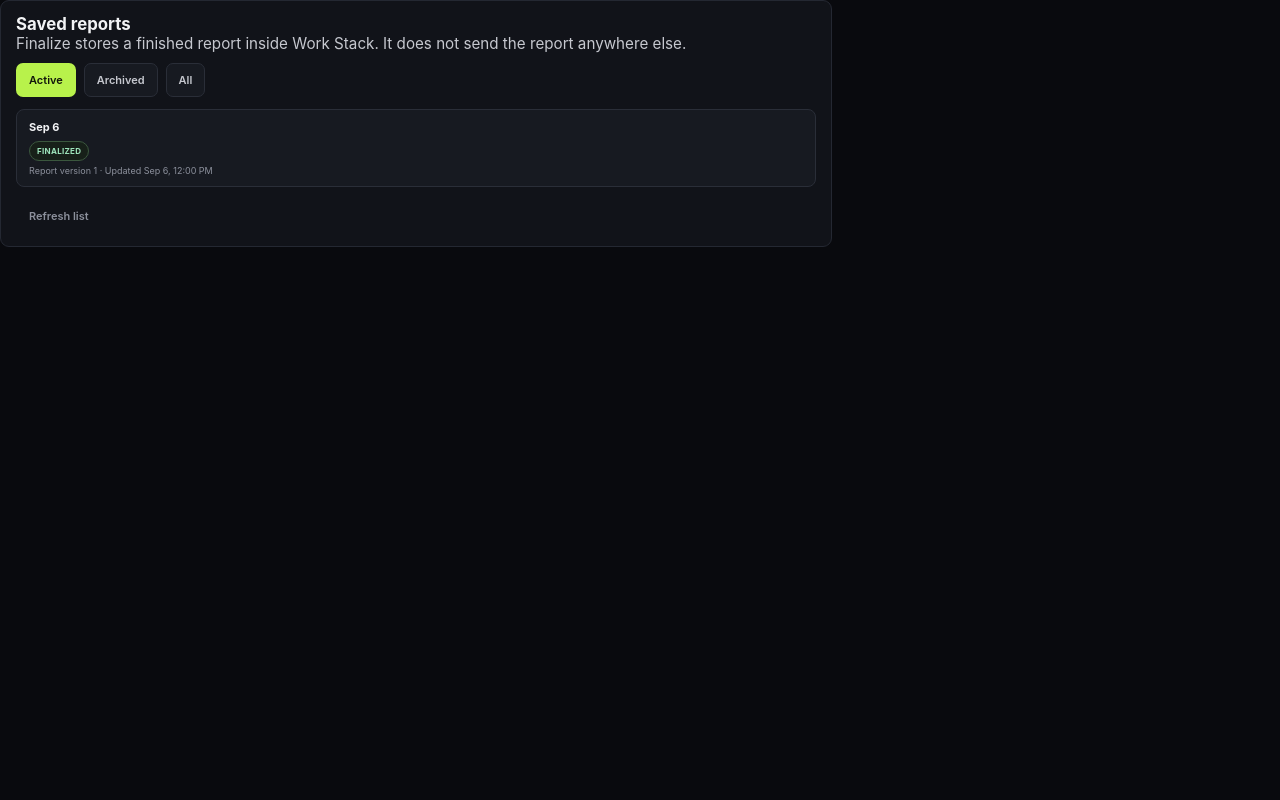
Test: editing a finalized report saves a new authored version and reopens it as a draft
Step 1. Click the text "Report version 1 · Updated Sep 6, 12:00 PM" → (121, 170), box [29,165,213,176]
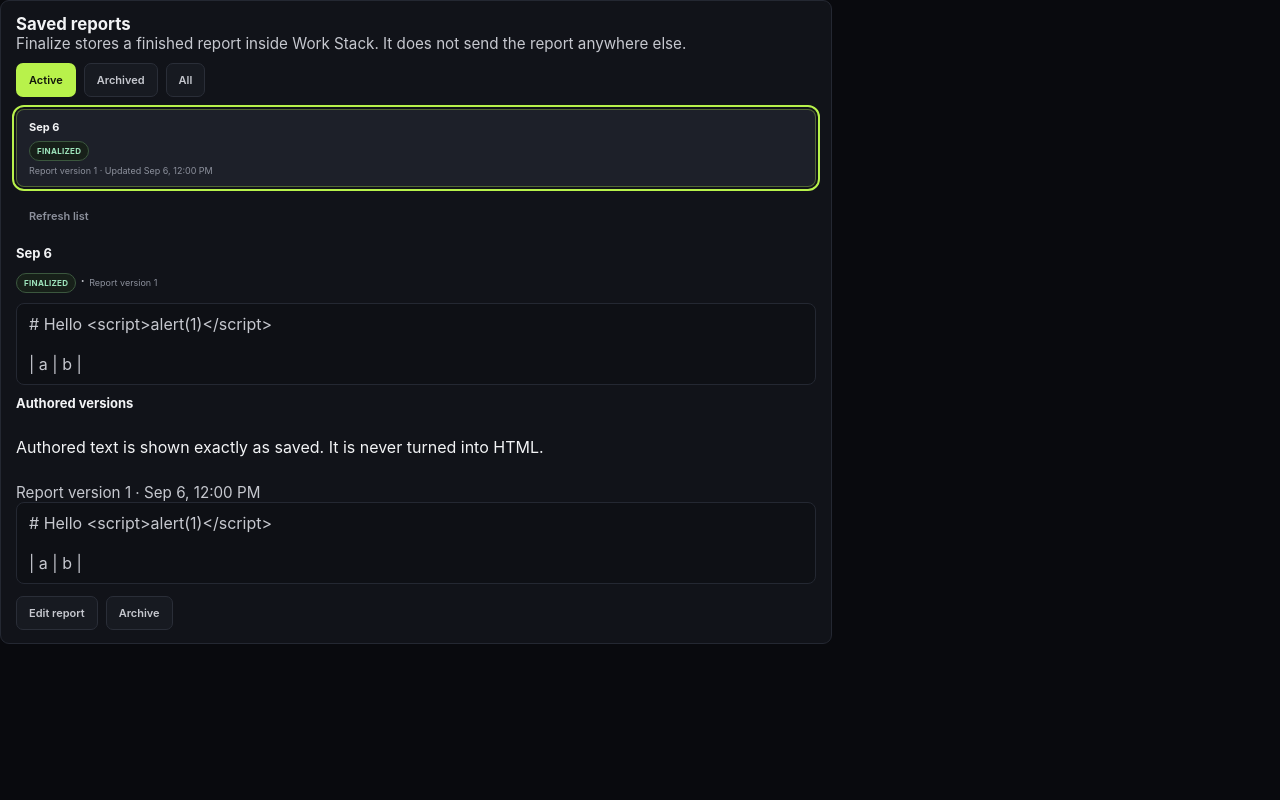
Step 2. Click the button "Edit report" → (57, 613), box [16,596,98,630]
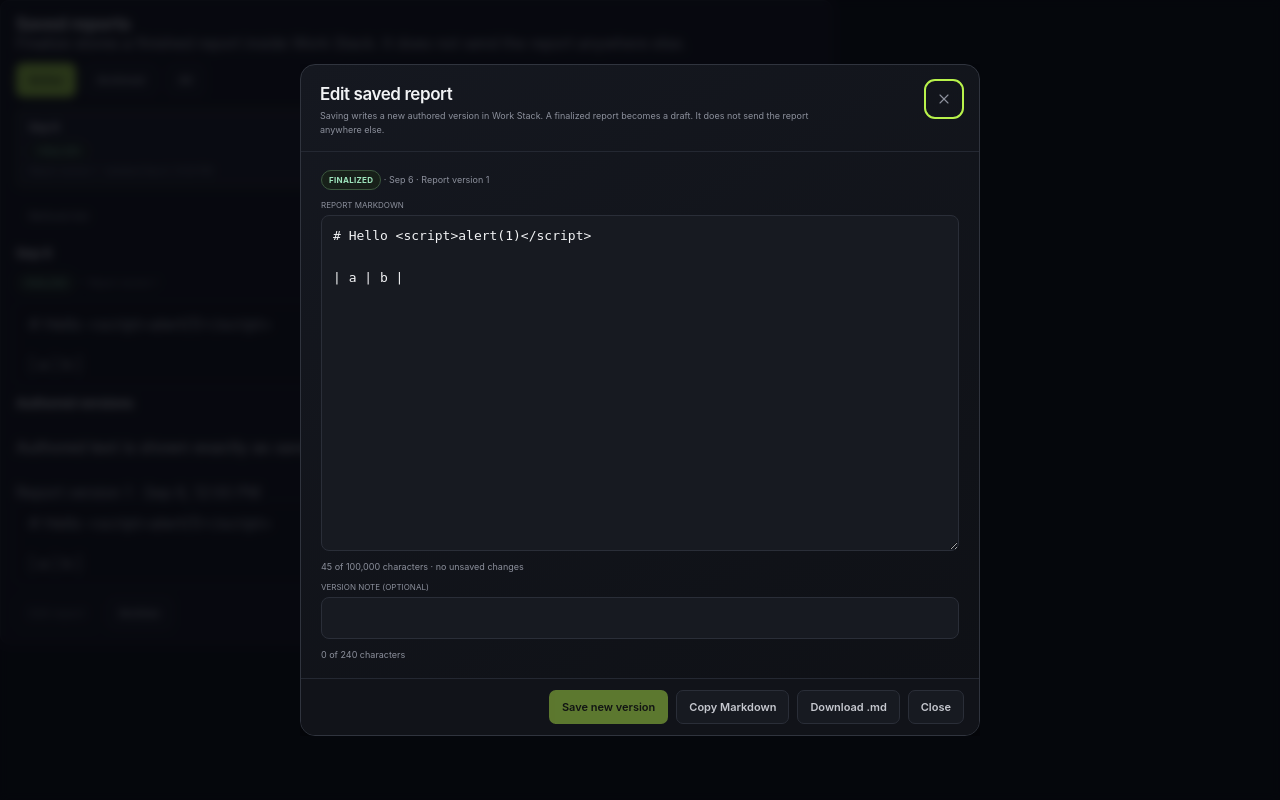
Result: the text "finalized report becomes a draft" is shown at [320,110,808,134]
Step 3. Replace the text in the text box labelled "Report markdown" with "# second version" → (640, 383), box [321,215,959,551]
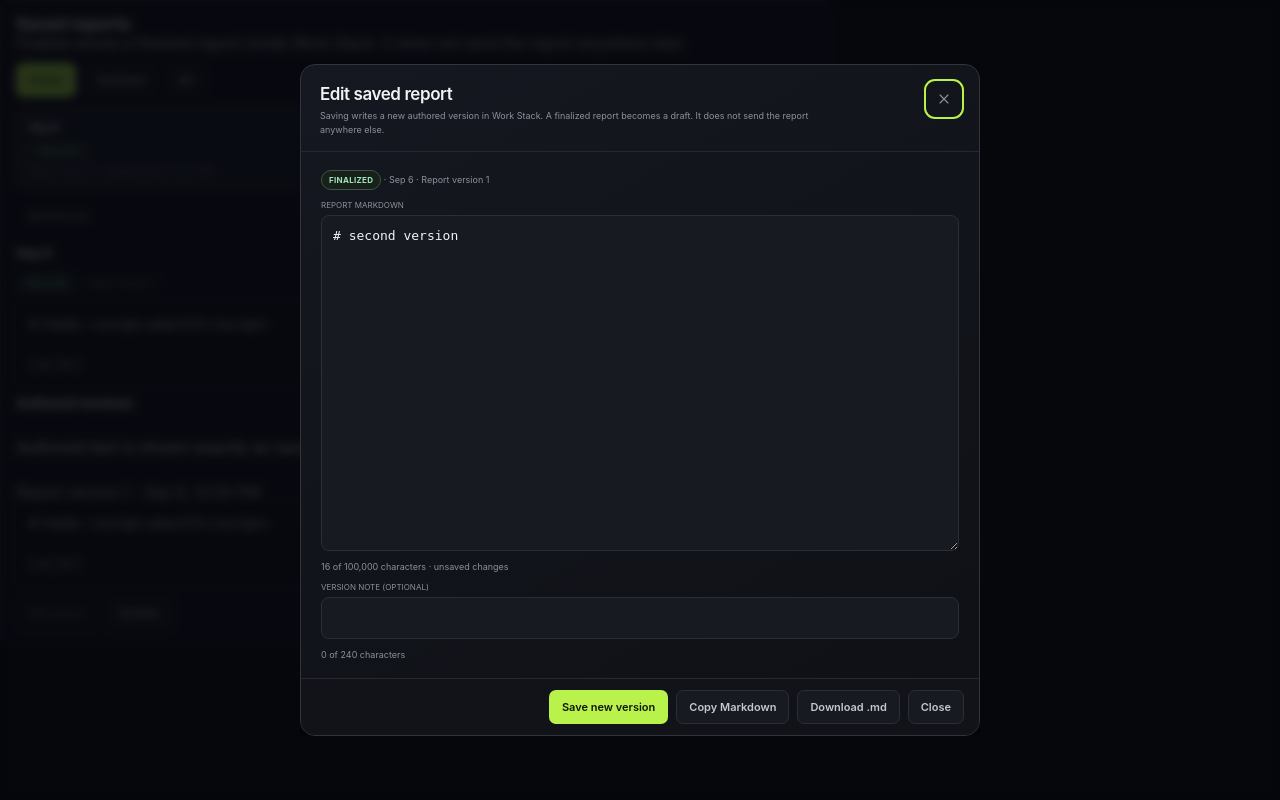
Step 4. Click the button "Save new version" → (609, 707), box [549,690,668,724]
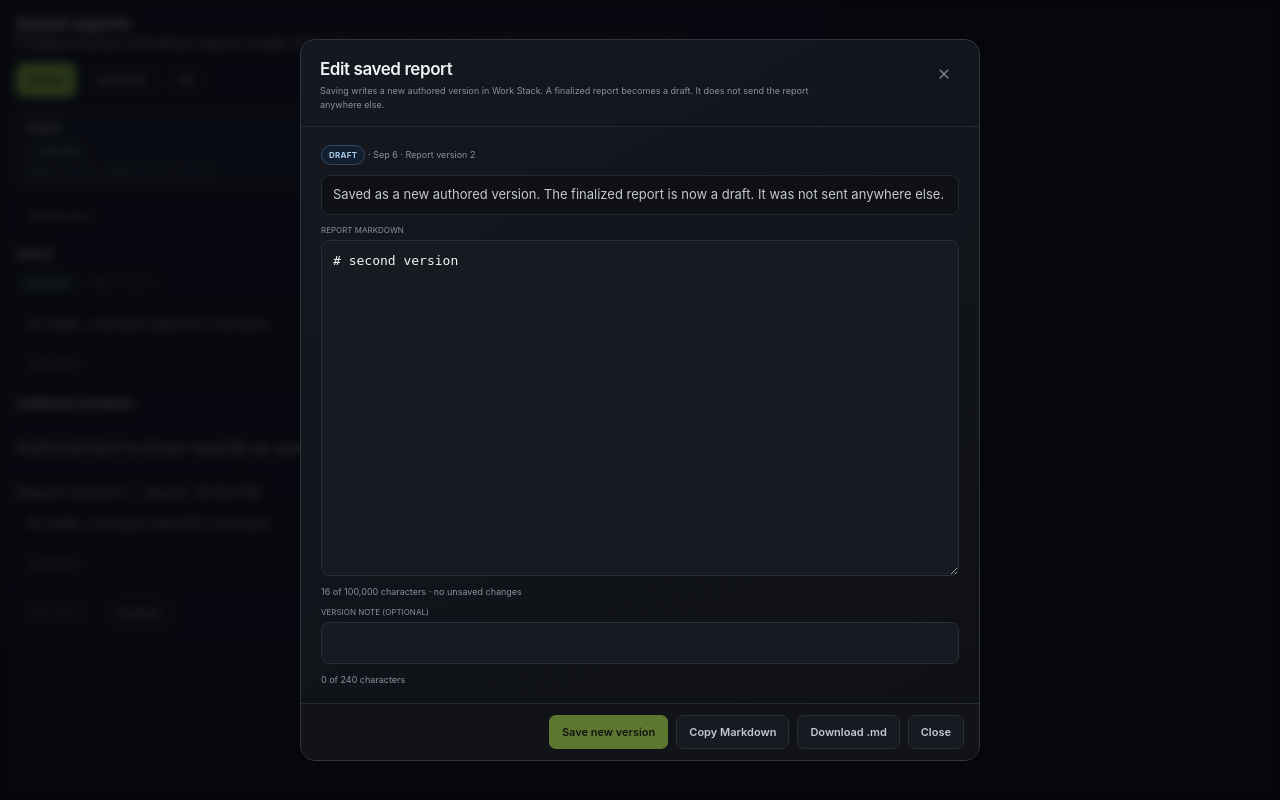
Result: the text "finalized report is now a draft" is shown at [333,186,944,202]
